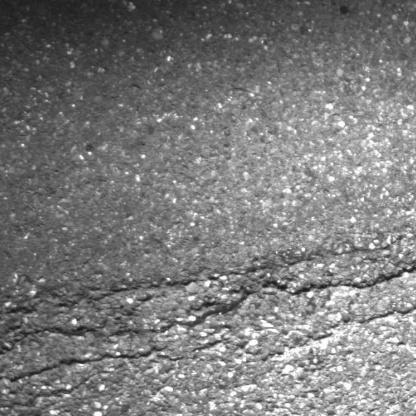Cracks: (0, 262, 416, 359), (0, 337, 233, 414), (266, 296, 416, 365), (91, 263, 276, 305), (277, 224, 416, 274), (3, 304, 41, 319)
